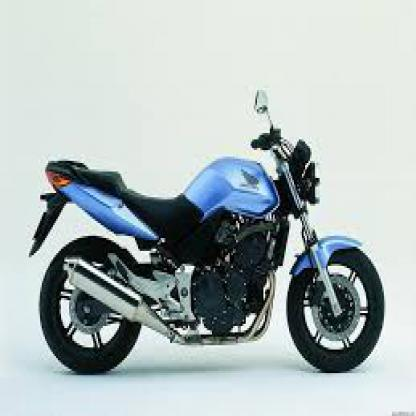Motorcycle: (34, 103, 388, 374)
